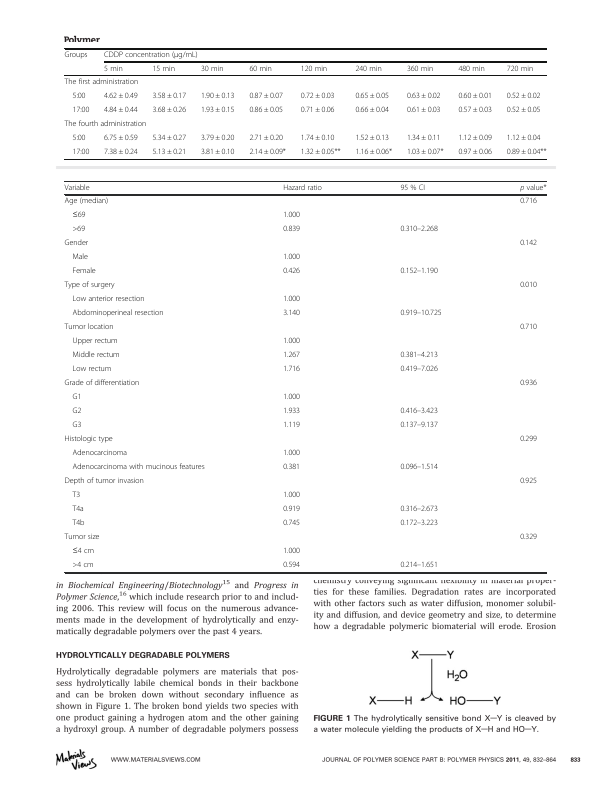borderless: (63, 180, 546, 572), (63, 47, 547, 159)
cell: (71, 463, 205, 473), (71, 309, 164, 319), (103, 51, 199, 60), (64, 119, 147, 129), (63, 477, 145, 487), (63, 379, 140, 389), (64, 77, 139, 87), (71, 295, 145, 305), (71, 449, 128, 459), (64, 281, 115, 291), (63, 435, 114, 445), (64, 323, 114, 333), (71, 351, 121, 361), (71, 337, 118, 347), (64, 197, 109, 207), (399, 309, 442, 319), (71, 365, 112, 375), (300, 147, 341, 157), (506, 147, 547, 157), (399, 225, 439, 235), (399, 267, 439, 277), (399, 351, 439, 361), (399, 365, 439, 375), (399, 407, 439, 417), (399, 421, 439, 431), (399, 463, 439, 473), (399, 505, 439, 515), (399, 519, 439, 529), (399, 561, 439, 571), (248, 147, 287, 157), (354, 147, 393, 157), (406, 147, 444, 157), (63, 533, 100, 543), (282, 184, 323, 193), (103, 91, 139, 101), (151, 91, 187, 101), (248, 91, 284, 101), (354, 91, 390, 101), (457, 91, 493, 101), (103, 105, 139, 115), (151, 105, 187, 115), (248, 105, 284, 115), (354, 105, 390, 115), (457, 105, 493, 115), (103, 133, 139, 143), (151, 133, 187, 143), (248, 133, 284, 143), (354, 133, 390, 143), (457, 133, 493, 143), (103, 147, 139, 157), (151, 147, 187, 157), (457, 147, 493, 157), (200, 91, 235, 101), (300, 91, 335, 101), (406, 91, 441, 101), (506, 91, 541, 101), (200, 105, 235, 115), (300, 105, 335, 115), (406, 105, 441, 115), (506, 105, 541, 115), (200, 133, 235, 143), (300, 133, 335, 143), (406, 133, 441, 143), (506, 133, 541, 143), (200, 147, 235, 157), (354, 64, 383, 73), (457, 64, 486, 73), (71, 267, 97, 277), (519, 184, 547, 193), (300, 64, 328, 73), (406, 64, 434, 73), (506, 64, 534, 73), (64, 239, 89, 249), (399, 184, 426, 193), (71, 547, 95, 557), (64, 184, 90, 193), (71, 561, 94, 571), (151, 64, 176, 73), (248, 64, 273, 73), (64, 51, 88, 60), (200, 64, 224, 73), (519, 197, 538, 207), (282, 211, 301, 221), (282, 225, 301, 235), (519, 239, 538, 249), (282, 253, 301, 263), (282, 267, 301, 277), (519, 281, 538, 291), (282, 295, 301, 305), (282, 309, 301, 319), (519, 323, 538, 333), (282, 337, 301, 347), (282, 351, 301, 361), (282, 365, 301, 375), (519, 379, 538, 389), (282, 393, 301, 403), (282, 407, 301, 417), (282, 421, 301, 431), (519, 435, 538, 445), (282, 449, 301, 459), (282, 463, 301, 473), (519, 477, 538, 487), (282, 491, 301, 501), (282, 505, 301, 515), (282, 519, 301, 529), (519, 533, 538, 543), (282, 547, 301, 557), (282, 561, 301, 571), (71, 105, 90, 115), (71, 147, 90, 157), (103, 64, 124, 73), (71, 253, 89, 263), (71, 211, 86, 221), (71, 225, 86, 235), (71, 91, 86, 101), (71, 133, 86, 143), (71, 505, 85, 515), (71, 519, 85, 529), (71, 393, 82, 403), (71, 407, 82, 417), (71, 421, 82, 431), (71, 491, 81, 501)
